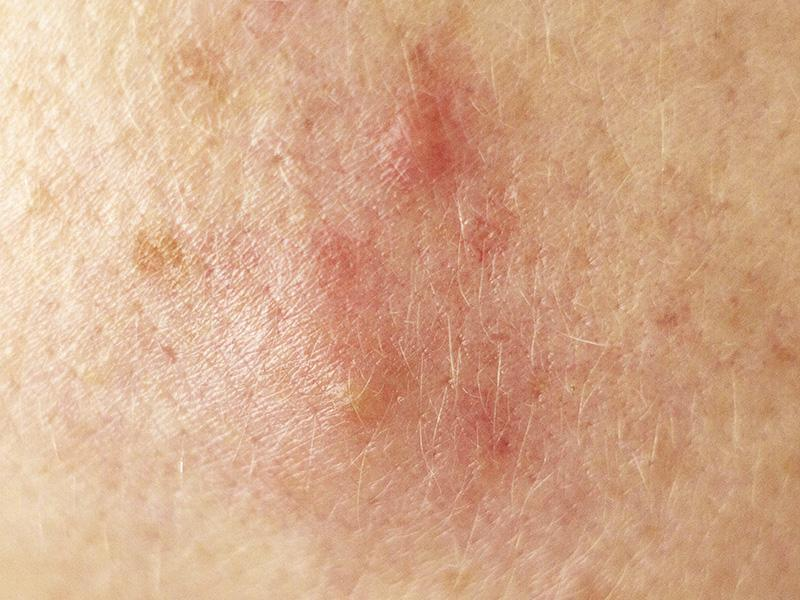papular: (380, 69, 459, 214), (301, 356, 399, 441)
